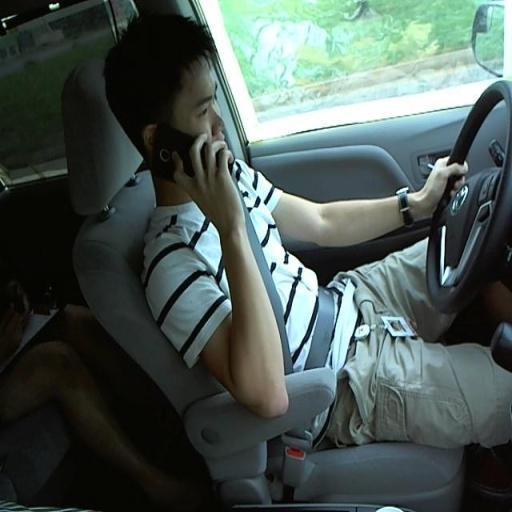talking_phone: (107, 96, 480, 401)
